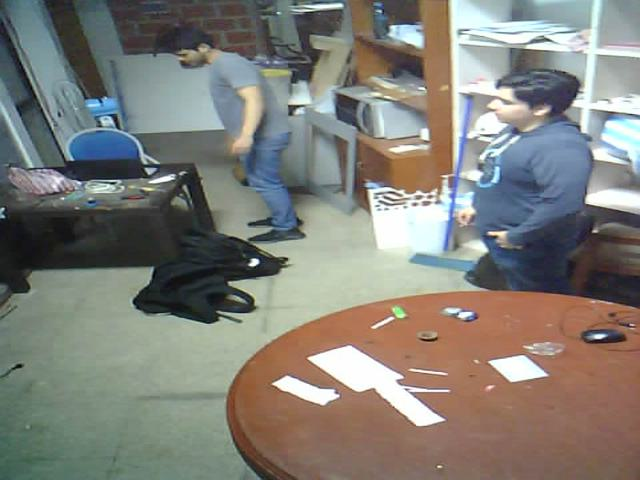person: (454, 51, 627, 326), (143, 17, 320, 253)
